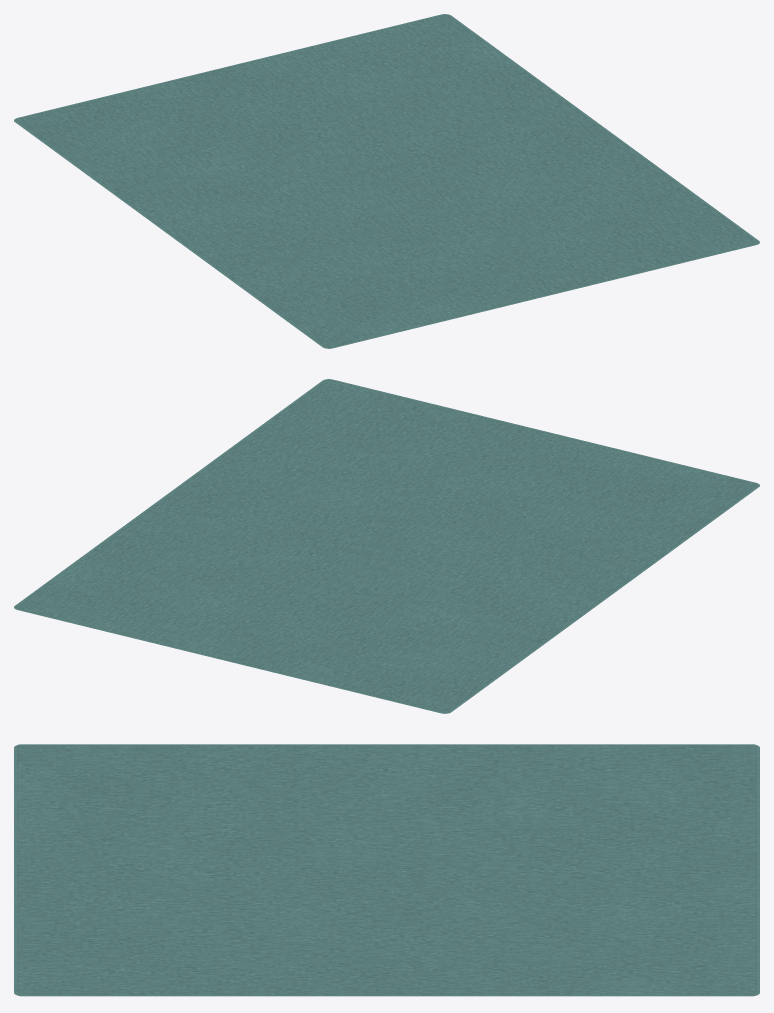
File: green_L.glb
3 renders of one model, top to bottom at view 1: azimuth 30°, elevation 25°; view 2: azimuth 150°, elevation 25°; view 3: azimuth 270°, elevation 25°, orthographic. The views are drawn at different scales.
Parts seen in each view (by area): view 1: reliv_green_L; view 2: reliv_green_L; view 3: reliv_green_L.
Part boxes in pixels (x1,y1,x2,y2): reliv_green_L: (14, 14, 759, 348); reliv_green_L: (14, 379, 759, 713); reliv_green_L: (14, 744, 759, 996).
Bounding box in the file's own units: 2 × 0.009 × 2.5.
Materials: 2 (1 with a texture image).
